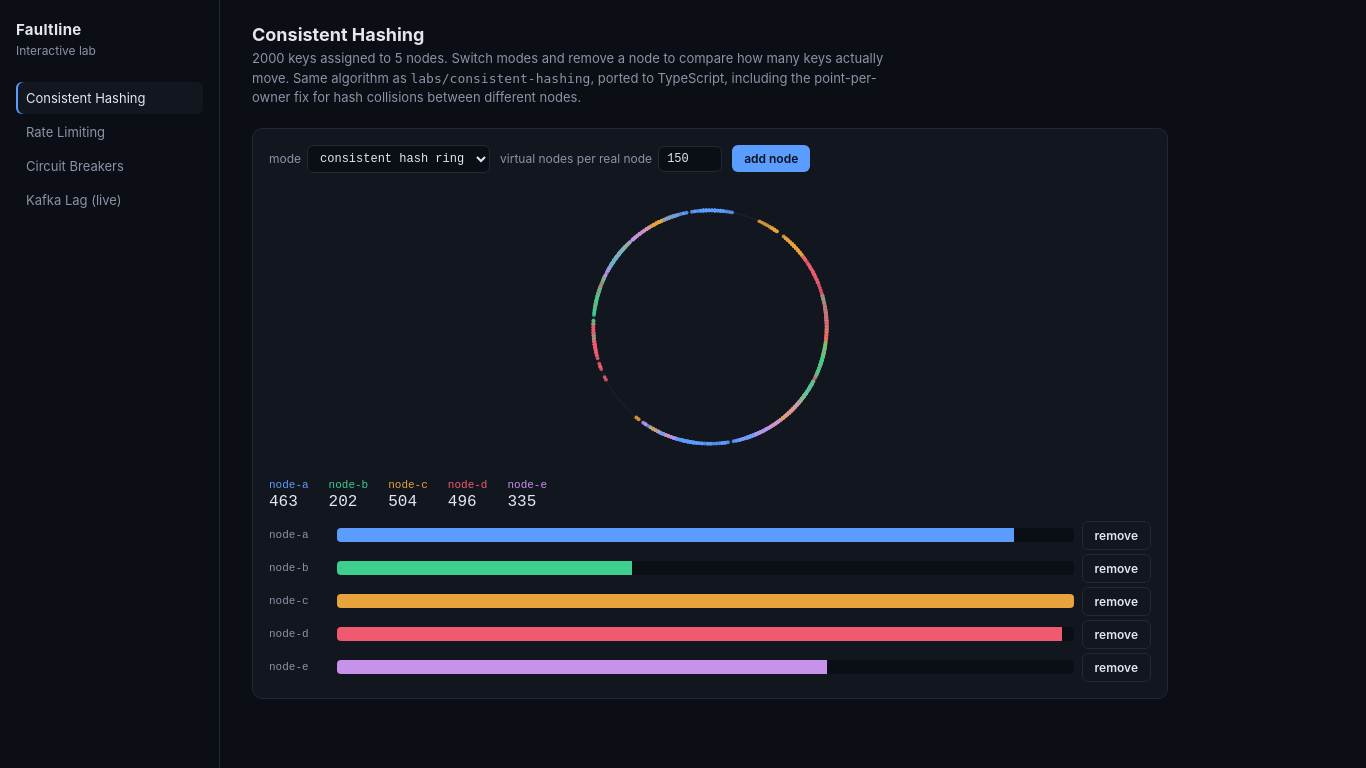
Test: ConsistentHashingViz › removing a node reports a moved percentage
Step 1. Click the 1st button "remove" → [1116, 535], box [1082,520,1151,550]
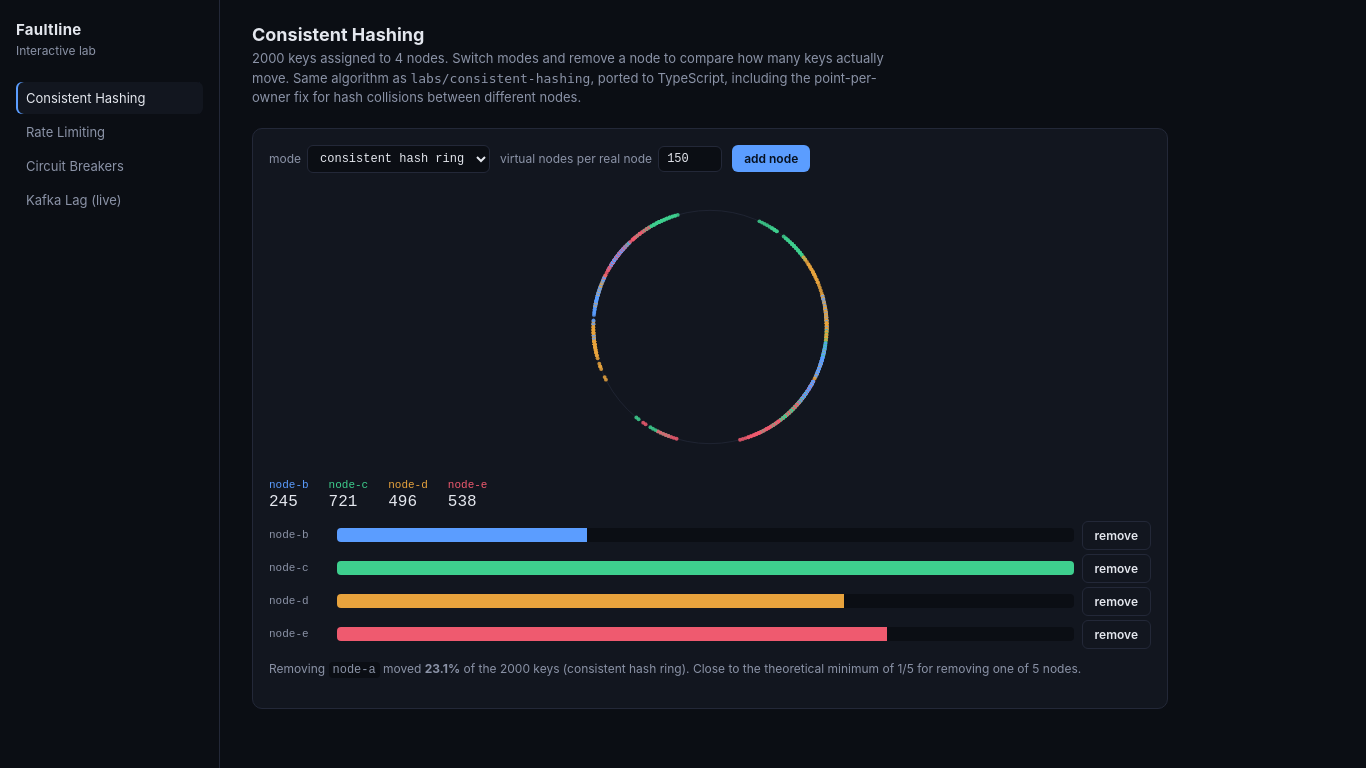
expect the text "moved" is shown: met, box [380,660,425,676]
